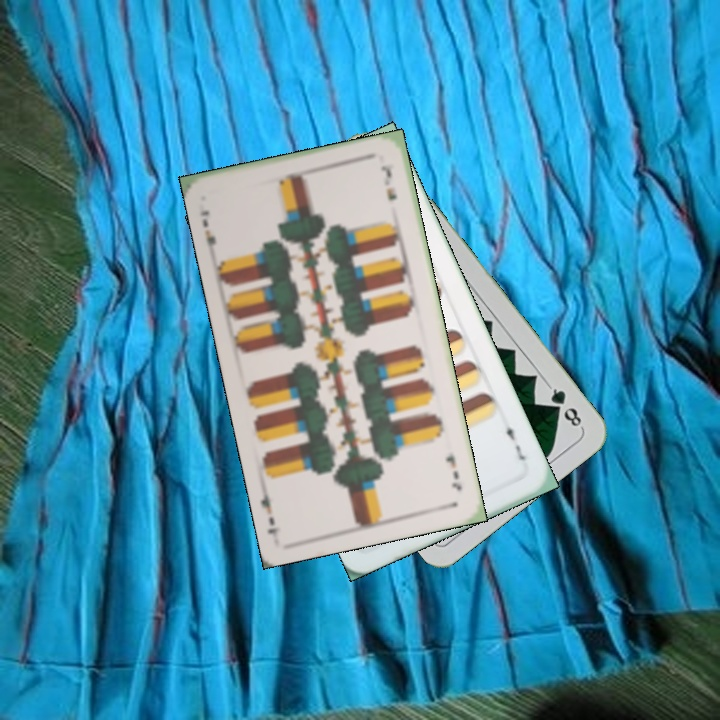E7: (502, 416, 528, 463), (195, 207, 219, 256), (441, 451, 465, 494)
G8: (543, 381, 585, 431)
